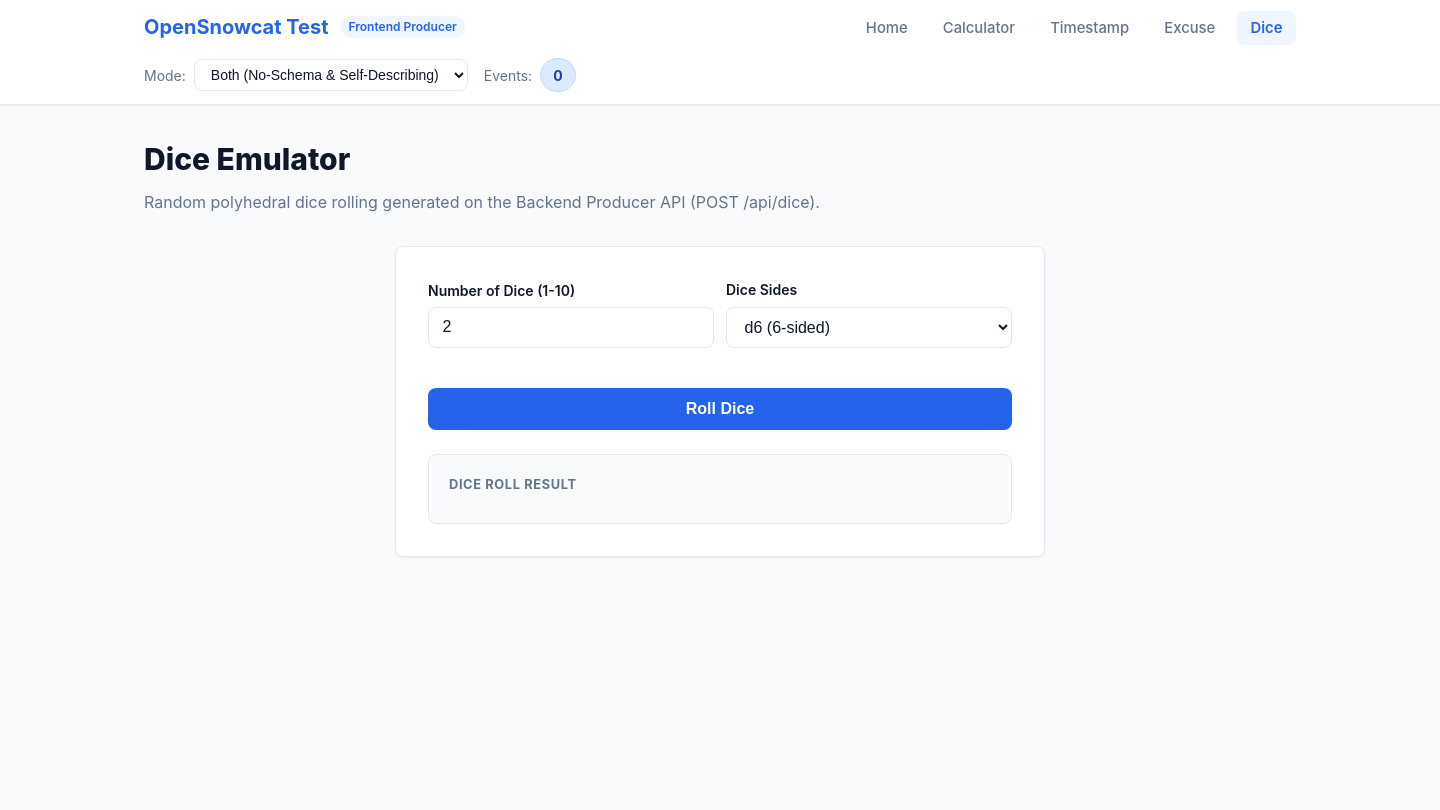
Dice Emulator Service - End-to-End Integration › completes dice roll user journey with custom count and sides selection: form -> API POST -> DOM update -> dual emission
Step 1. Replace the text in the number field with test id "dice-input-count" with "4" → (571, 328), box [428,307,714,348]
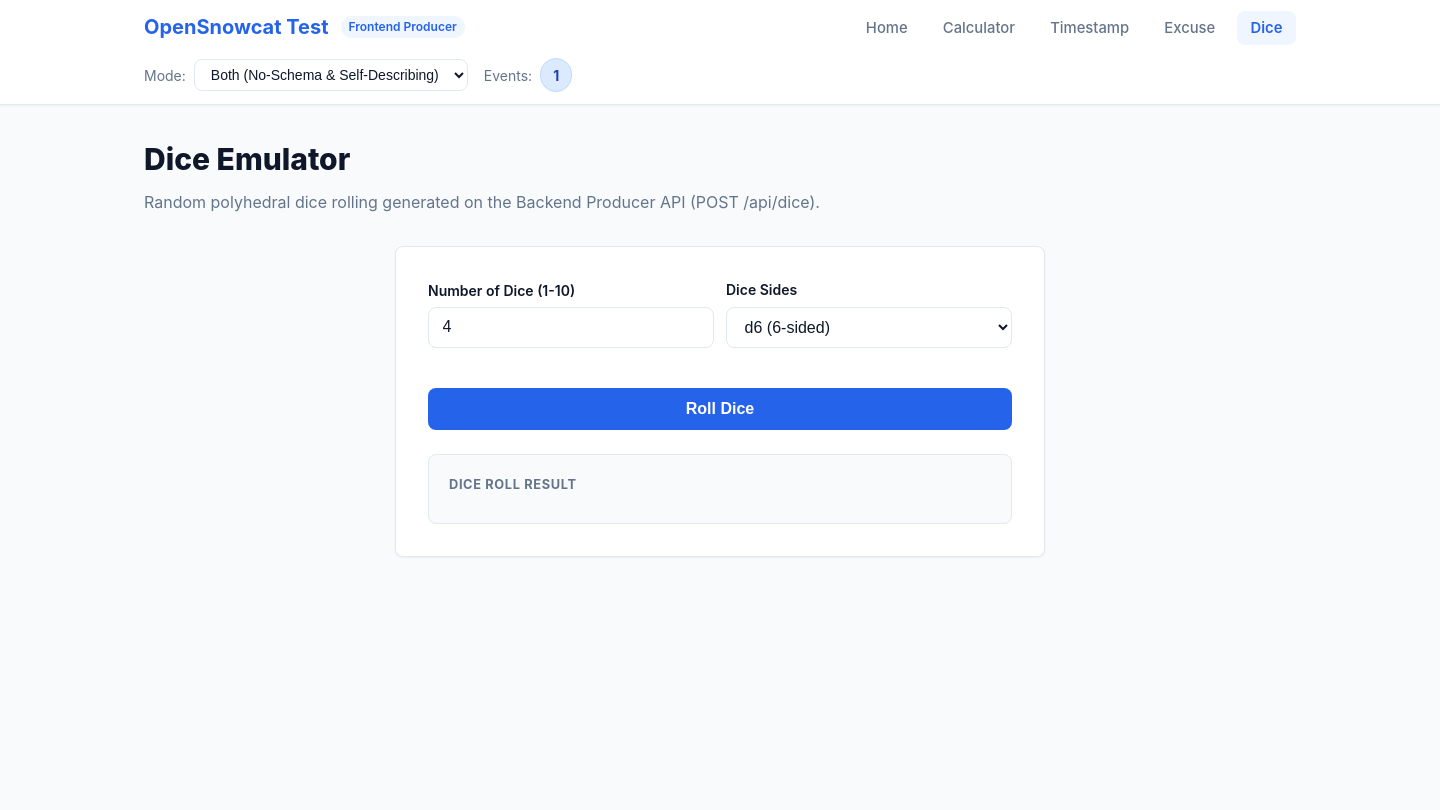
Step 2. Select "d20 (20-sided)" in the dropdown with test id "dice-select-sides" → (869, 328), box [726,307,1012,348]
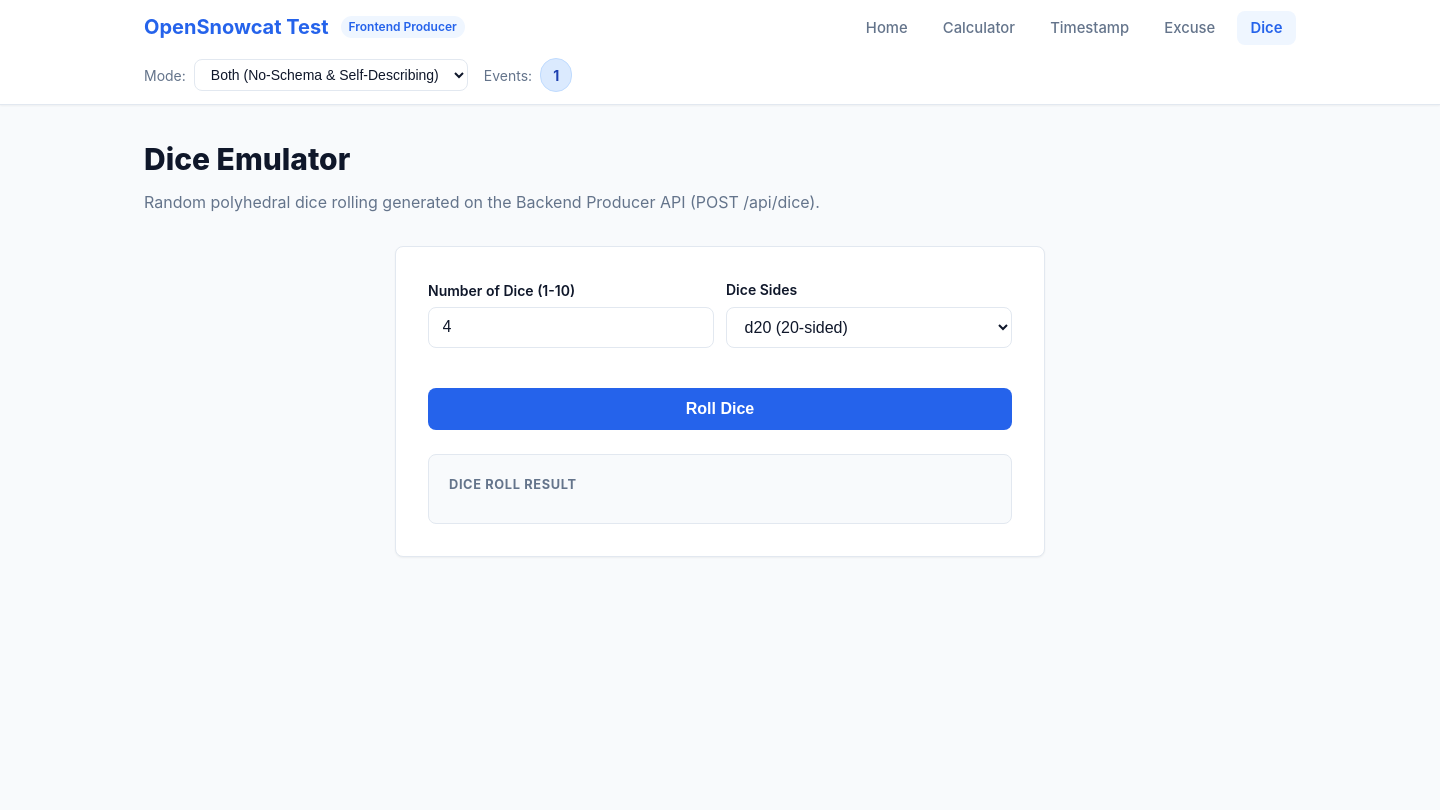
Step 3. Click the button with test id "btn-roll-dice" → click(720, 409), box [428,388,1012,430]
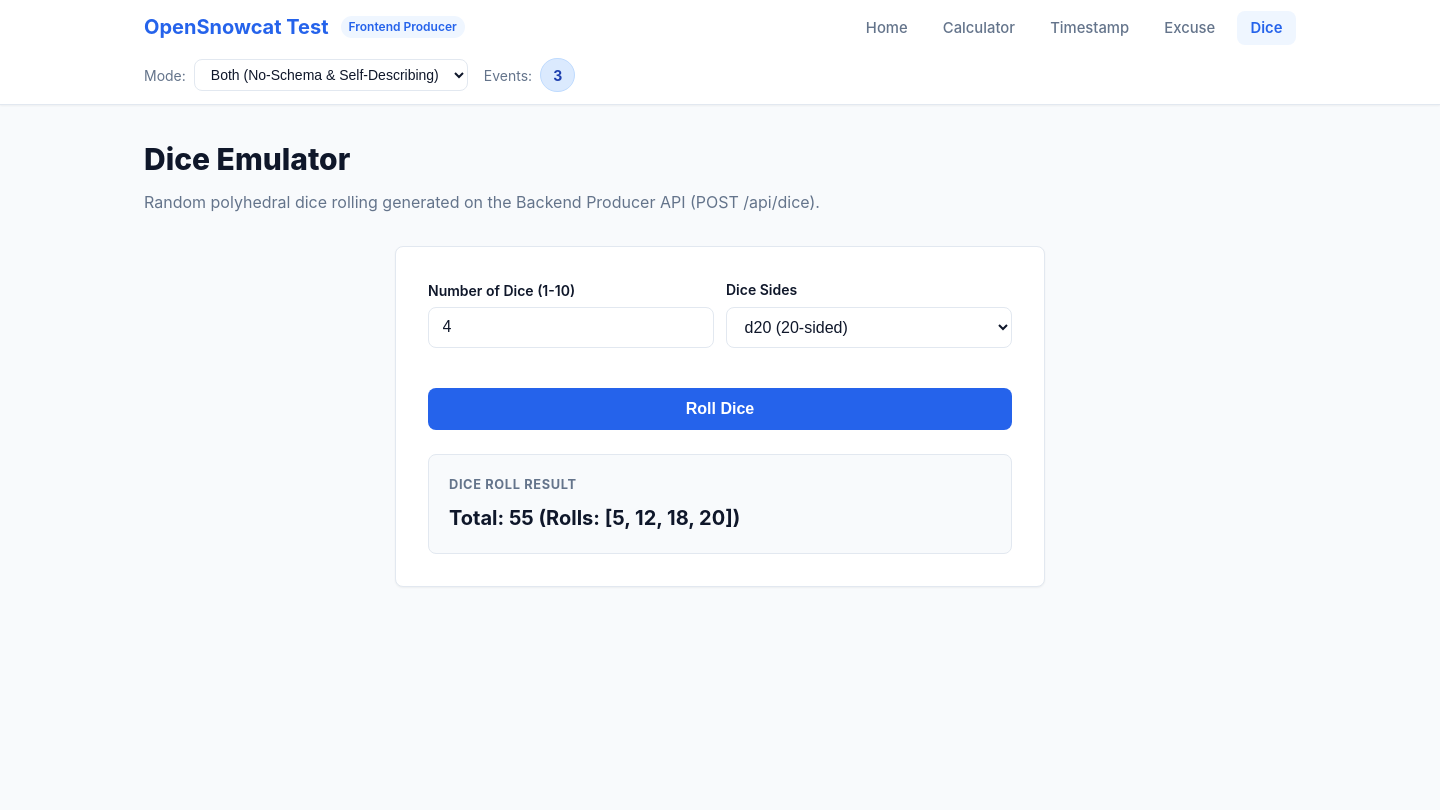
Check: the text with test id "dice-result" reads "Total: 55 (Rolls: [5, 12, 18, 20])", box [449,506,740,530]
Check: the text with test id "frontend-events-counter" reads "3", box [553,67,562,84]
